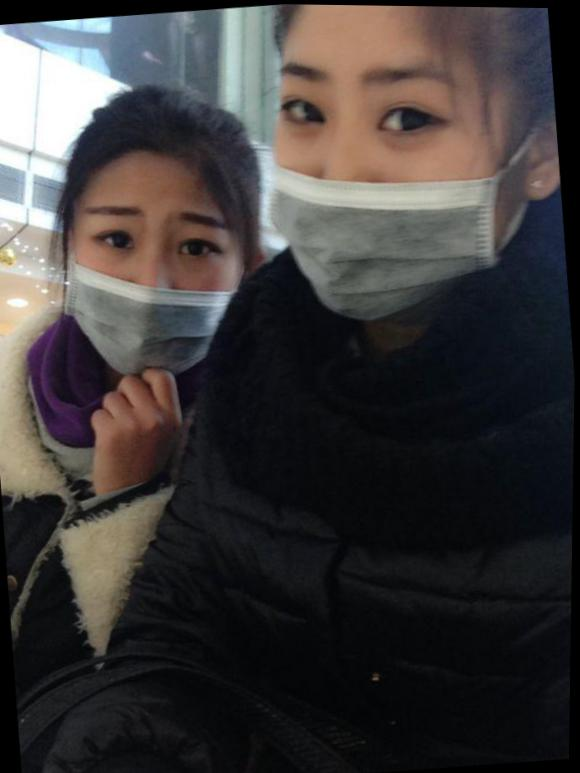WRONG: (259, 41, 512, 330), (62, 171, 245, 380)
